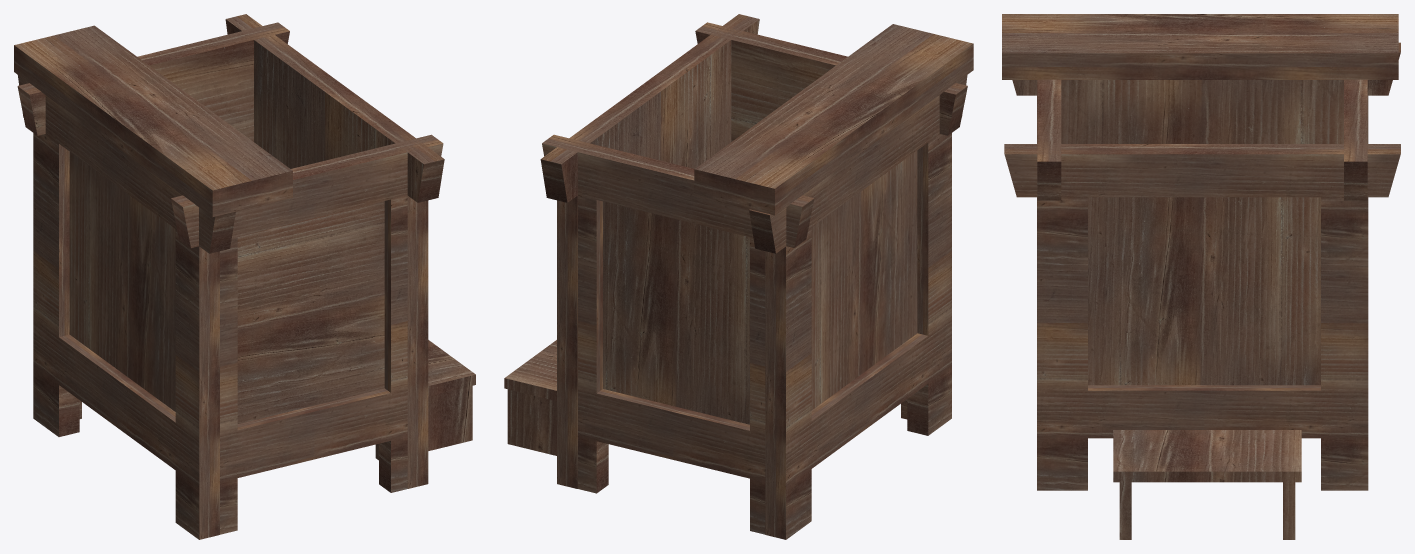
File: SM_M_WoodenBox.fbx
The picture shows the model from 3 angles, left to right: view 1: azimuth 30°, elevation 25°; view 2: azimuth 150°, elevation 25°; view 3: azimuth 270°, elevation 25°; orthographic projection.
Parts seen in each view (by area): view 1: SM_M_WoodenBox; view 2: SM_M_WoodenBox; view 3: SM_M_WoodenBox.
Boxes of the visible parts, x1,y1,x2,y2 form: SM_M_WoodenBox: (14, 14, 475, 539); SM_M_WoodenBox: (504, 14, 973, 539); SM_M_WoodenBox: (1002, 14, 1400, 539).
Size of the model in its own units: 120 by 125 by 128.
1 material, 1 textured.
